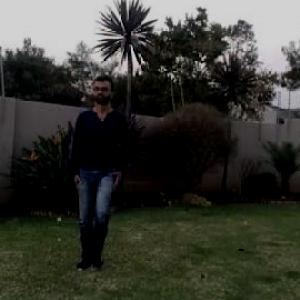follow: (61, 65, 133, 282)
